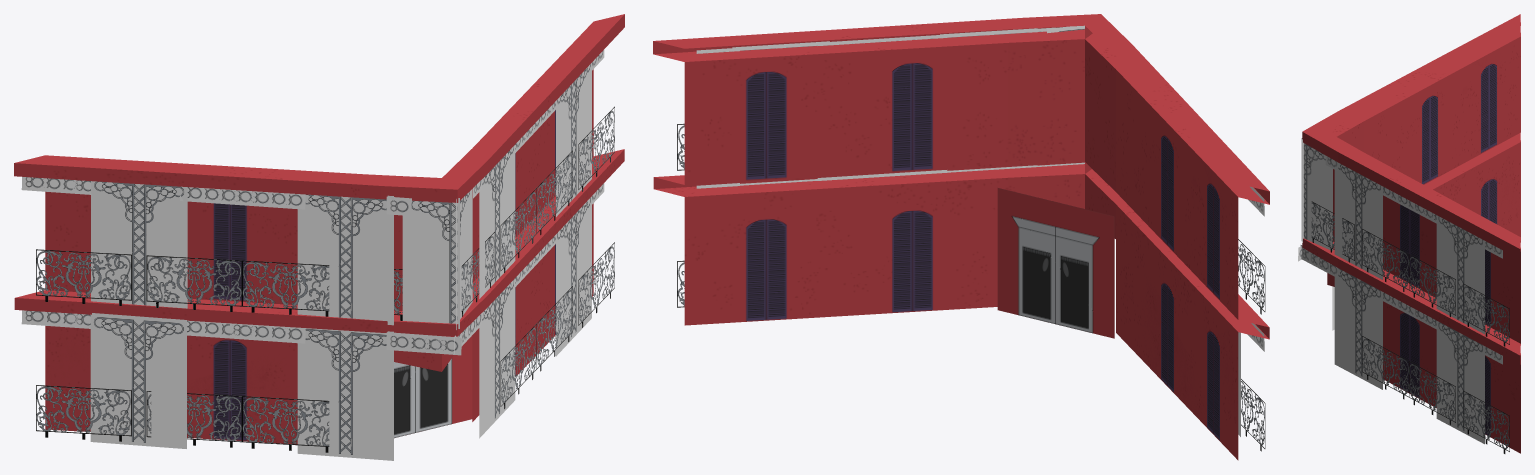
File: MidlevelCornerBuildingFBX.fbx
3 renders of one model, left to right at view 1: azimuth 30°, elevation 25°; view 2: azimuth 150°, elevation 25°; view 3: azimuth 270°, elevation 25°, orthographic. The views are drawn at different scales.
Visible parts, largest first — view 1: lt-wall, CirclePole-13.005, CirclePole-13.004, CirclePole-13, CirclePole-13.001, rt-wall, HalfCirclePole-15, lt_flashing, lt-deckfront, frontdoor, roof_lt_top, roof_rt_top (+22 smaller); view 2: rt-wall, lt-wall, frontdoor, roof_rt_top, roof_lt_top, rt-deck-bot, roof-rt-bot, lt-roof-bot, lt-deck-bot, rt_flashing, rt-deckfront, ornaateRailing-11.007 (+1 smaller); view 3: lt-wall, rt-wall, CirclePole-13.006, CirclePole-13.007, CirclePole-13.002, CirclePole-13.003, roof_rt_top, HalfCirclePole-15.001, roof_lt_top, rt_flashing, rt-deckfront, lt-roof-bot (+9 smaller).
Part boxes in pixels (left/top/right/bottom): lt-wall: left=45, top=191, right=441, bottom=444; CirclePole-13.005: left=90, top=313, right=186, bottom=448; CirclePole-13.004: left=297, top=328, right=393, bottom=460; CirclePole-13: left=297, top=194, right=393, bottom=325; CirclePole-13.001: left=91, top=181, right=187, bottom=308; rt-wall: left=442, top=69, right=593, bottom=421; HalfCirclePole-15: left=402, top=198, right=459, bottom=328; lt_flashing: left=14, top=163, right=457, bottom=202; lt-deckfront: left=14, top=298, right=457, bottom=336; frontdoor: left=394, top=335, right=472, bottom=438; roof_lt_top: left=15, top=155, right=456, bottom=189; roof_rt_top: left=442, top=14, right=624, bottom=189; rt-wall: left=684, top=39, right=1084, bottom=325; lt-wall: left=1085, top=39, right=1238, bottom=460; frontdoor: left=997, top=188, right=1114, bottom=338; roof_rt_top: left=654, top=14, right=1100, bottom=48; roof_lt_top: left=1085, top=14, right=1269, bottom=191; rt-deck-bot: left=654, top=164, right=1084, bottom=196; roof-rt-bot: left=654, top=29, right=1084, bottom=61; lt-roof-bot: left=1085, top=33, right=1269, bottom=204; lt-deck-bot: left=1085, top=169, right=1269, bottom=339; rt_flashing: left=653, top=26, right=1065, bottom=54; rt-deckfront: left=653, top=162, right=1084, bottom=189; ornaateRailing-11.007: left=1238, top=239, right=1265, bottom=314; lt-wall: left=1337, top=36, right=1520, bottom=242; rt-wall: left=1327, top=169, right=1520, bottom=453; CirclePole-13.006: left=1334, top=268, right=1382, bottom=389; CirclePole-13.007: left=1436, top=321, right=1484, bottom=444; CirclePole-13.002: left=1334, top=163, right=1382, bottom=279; CirclePole-13.003: left=1436, top=215, right=1484, bottom=334; roof_rt_top: left=1303, top=131, right=1520, bottom=248; HalfCirclePole-15.001: left=1301, top=138, right=1332, bottom=251; roof_lt_top: left=1303, top=14, right=1520, bottom=131; rt_flashing: left=1302, top=132, right=1520, bottom=259; rt-deckfront: left=1302, top=239, right=1520, bottom=364; lt-roof-bot: left=1327, top=26, right=1520, bottom=136.
Size of the model in its own units: 1055 by 455 by 422.
